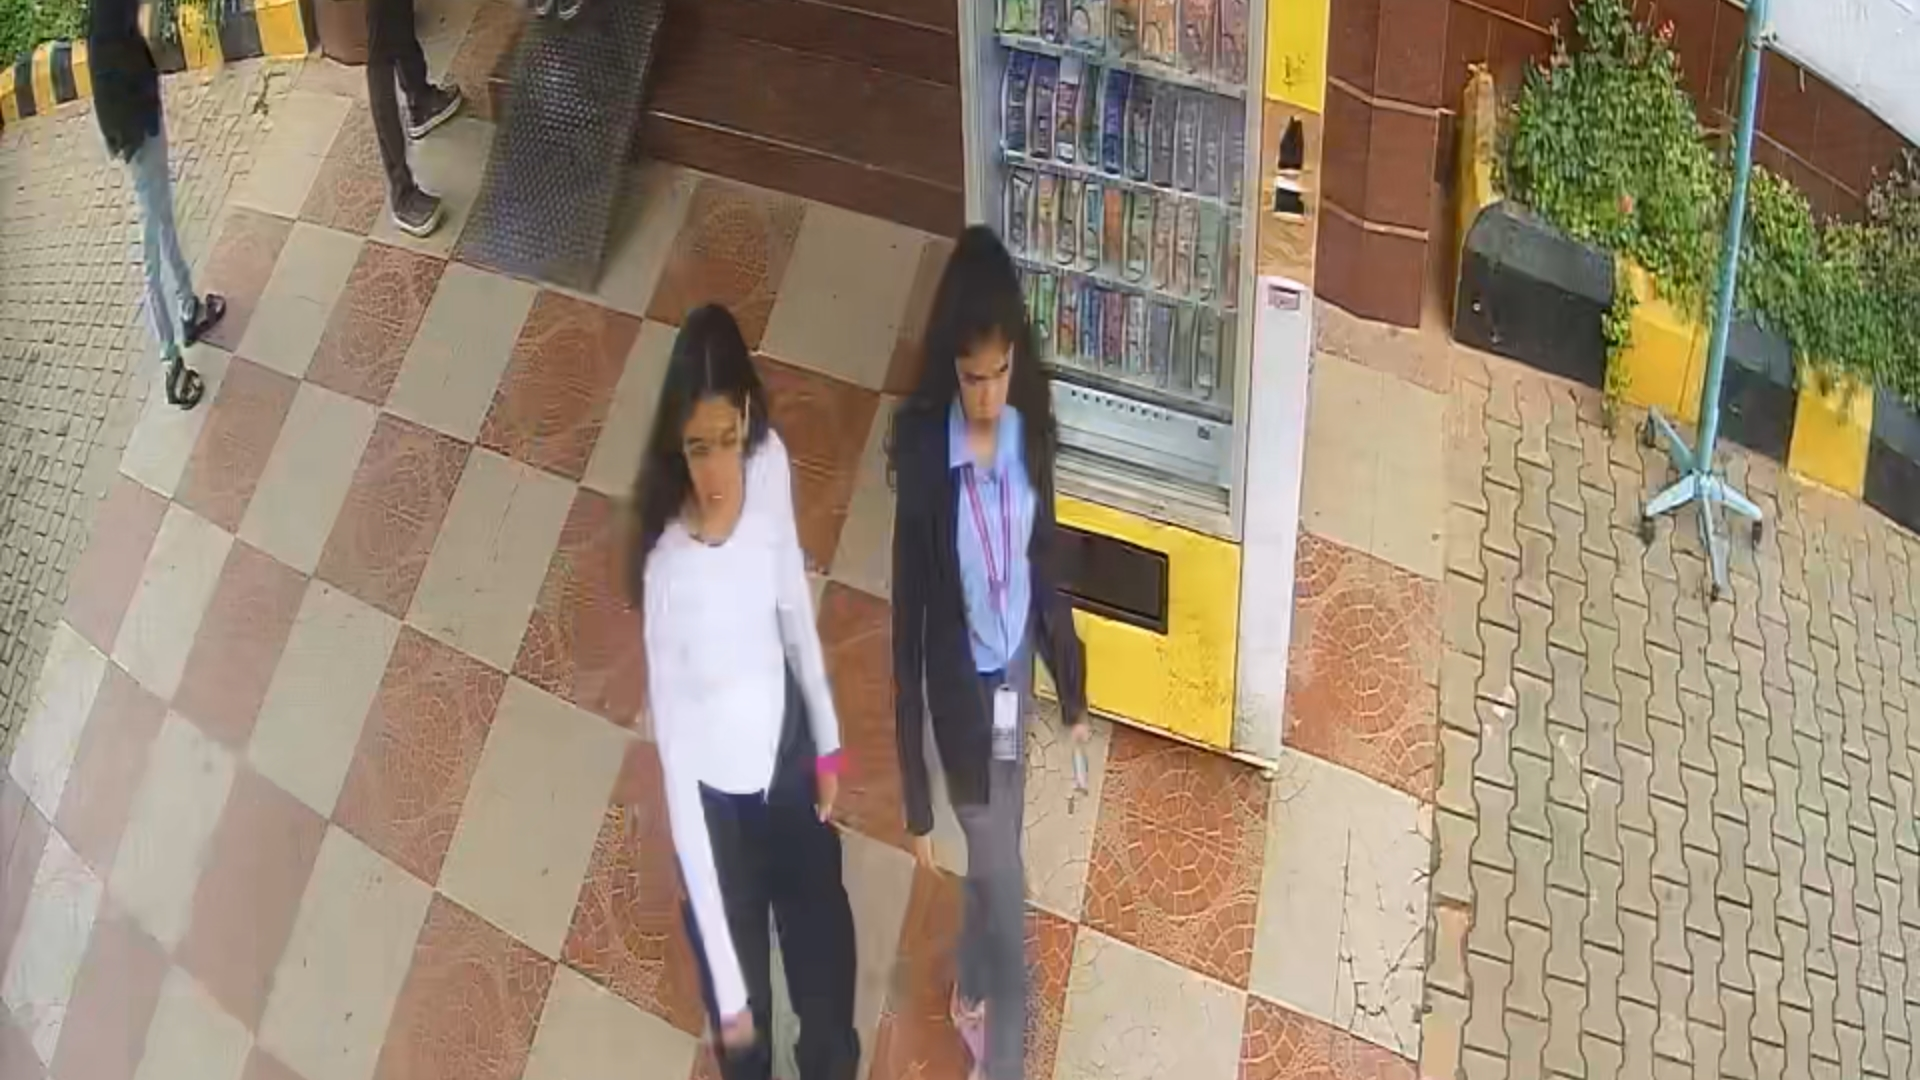intruder: (618, 276, 860, 1080)
not intruder: (901, 229, 1088, 1080)
